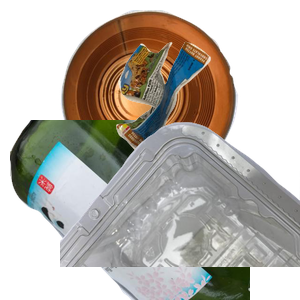glass: (10, 120, 250, 300)
metal: (58, 10, 289, 186)
plastic: (60, 120, 300, 300)
trash: (114, 39, 300, 188)
